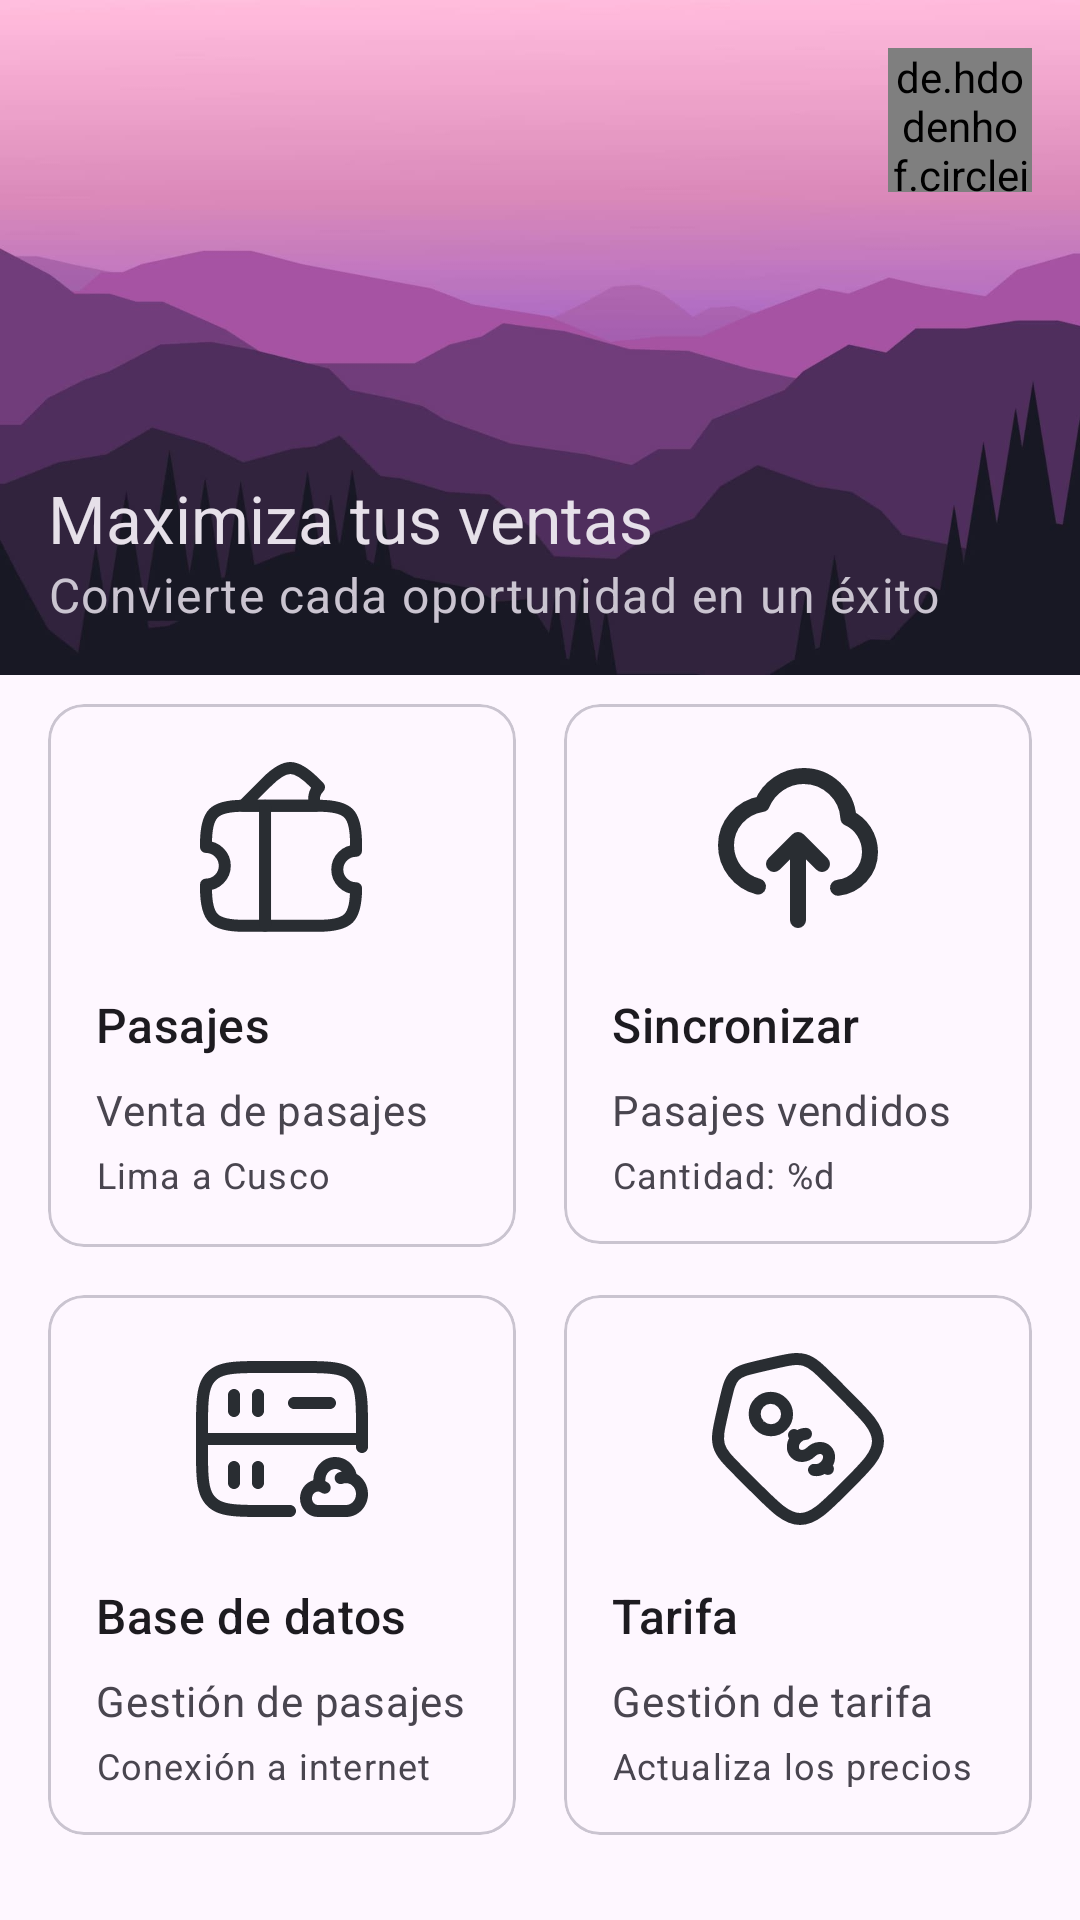

Icon click points for this 1080 x 1920 phone screenshot, format [x,y]:
Icono cloud: [798,848]
Icono server cloud: [282,1439]
Icono tag price: [798,1439]
Icono ticket: [281,847]
